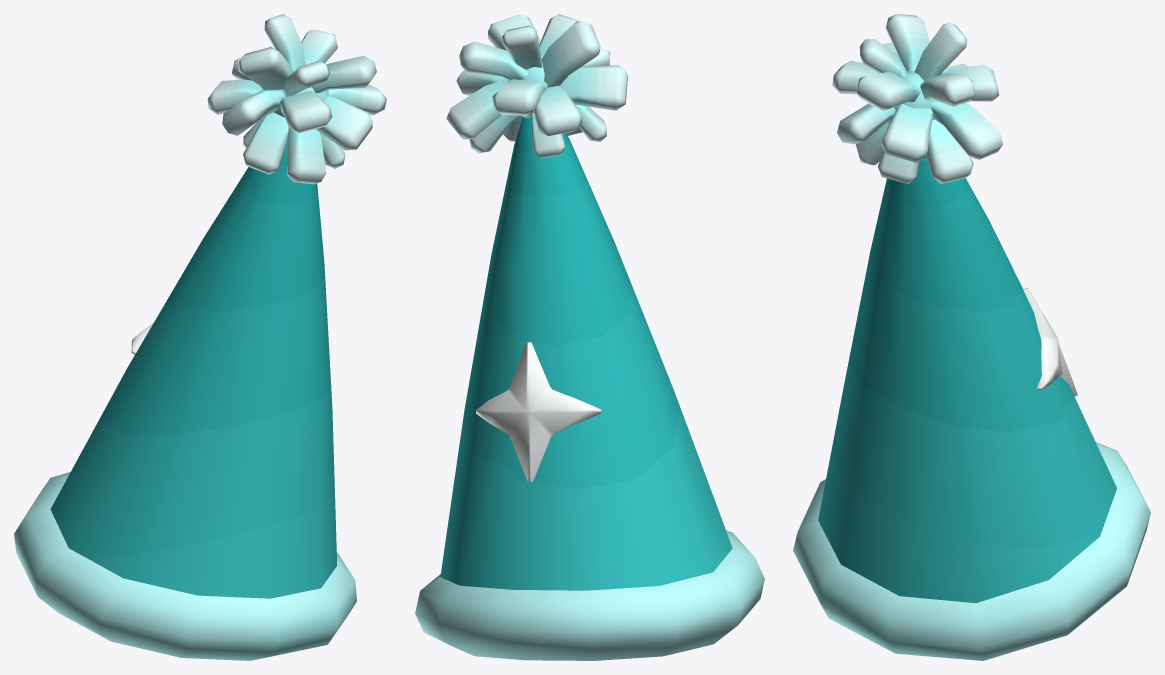
Rendered from CharSkyKid_Horn_BirthdayHat_01.glb.
3 renders of one model, left to right at view 1: azimuth 30°, elevation 25°; view 2: azimuth 150°, elevation 25°; view 3: azimuth 270°, elevation 25°, orthographic. The views are drawn at different scales.
Visible parts, largest first — view 1: CharSkyKid_Horn_BirthdayHat_01; view 2: CharSkyKid_Horn_BirthdayHat_01; view 3: CharSkyKid_Horn_BirthdayHat_01.
Part boxes in pixels (left/top/right/bottom): CharSkyKid_Horn_BirthdayHat_01: left=14, top=14, right=386, bottom=660; CharSkyKid_Horn_BirthdayHat_01: left=415, top=14, right=764, bottom=660; CharSkyKid_Horn_BirthdayHat_01: left=793, top=14, right=1150, bottom=660.
Bounding box in the file's own units: 2.19 × 4.05 × 2.12.
Materials: 1 (1 with a texture image).
